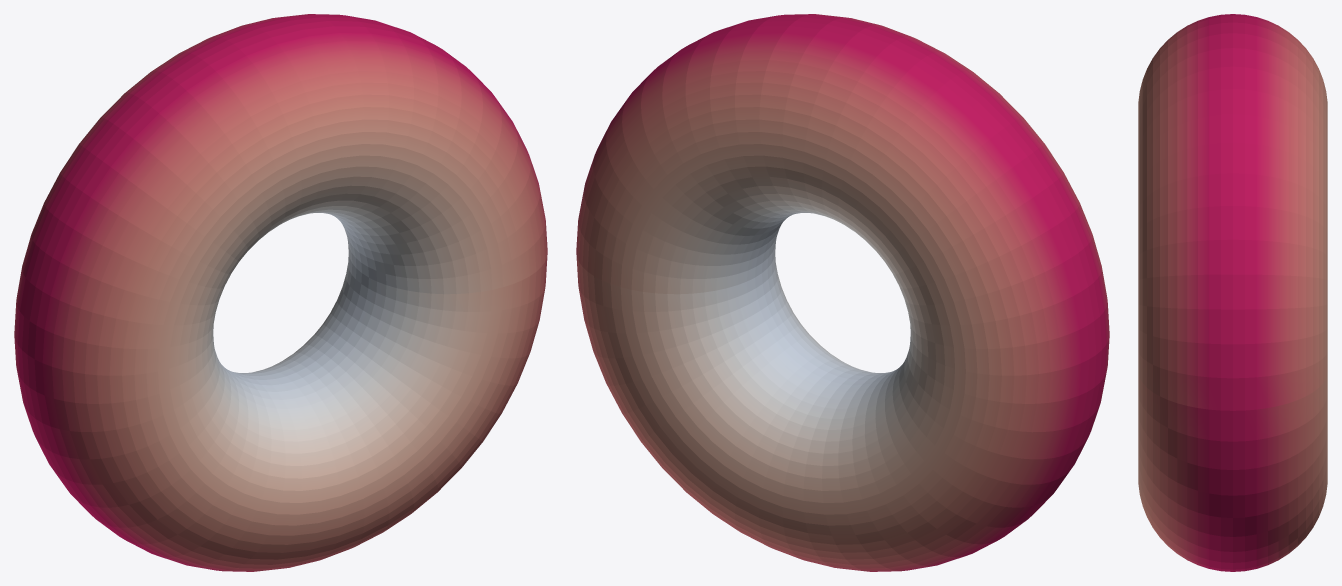
3 views of the same model, side by side, from view 1: azimuth 30°, elevation 25°; view 2: azimuth 150°, elevation 25°; view 3: azimuth 270°, elevation 25° (orthographic). The views are drawn at different scales.
Visible parts, largest first — view 1: world; view 2: world; view 3: world.
Boxes of the visible parts, <box> form: world: <box>14,14,547,571</box>; world: <box>576,14,1109,571</box>; world: <box>1138,14,1327,571</box>.
Bounding box in the file's own units: 26.27 × 26.21 × 8.92.
